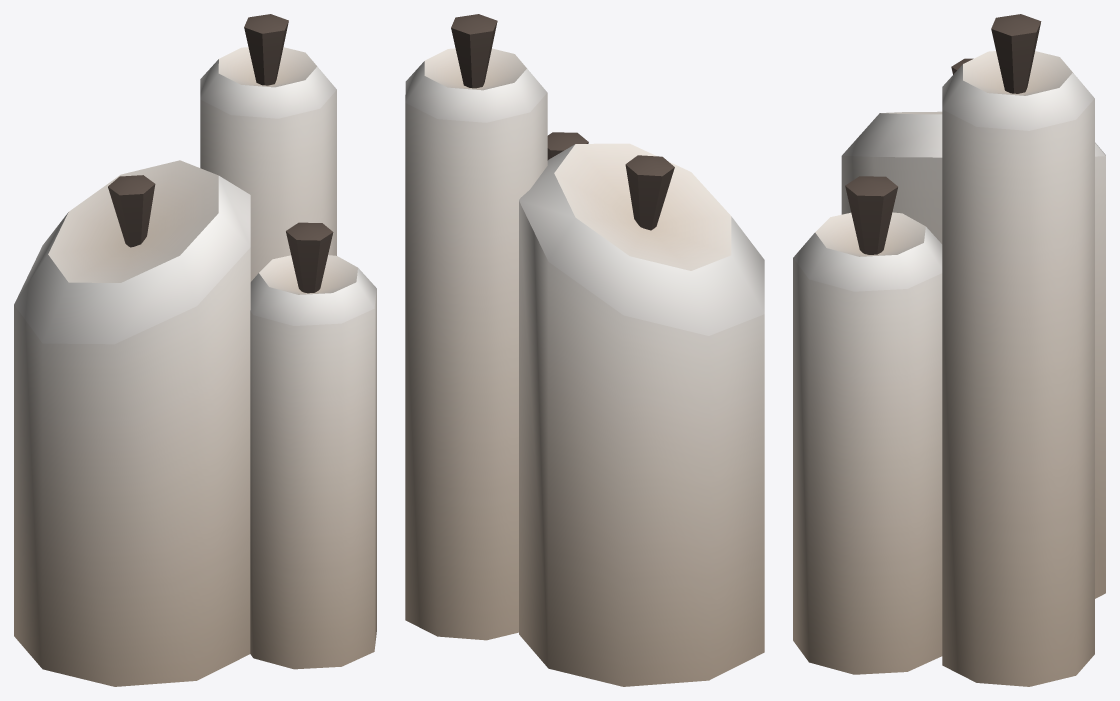
Rendered from candle_triple.gltf.
The picture shows the model from 3 angles, left to right: view 1: azimuth 30°, elevation 25°; view 2: azimuth 150°, elevation 25°; view 3: azimuth 270°, elevation 25°; orthographic projection. The views are drawn at different scales.
Parts seen in each view (by area): view 1: candle_triple; view 2: candle_triple; view 3: candle_triple.
Part boxes in pixels (left/top/right/bottom): candle_triple: left=14, top=14, right=376, bottom=686; candle_triple: left=405, top=14, right=764, bottom=686; candle_triple: left=793, top=14, right=1105, bottom=686.
Size of the model in its own units: 0.5012 by 0.873 by 0.3899.
1 material, 1 textured.
